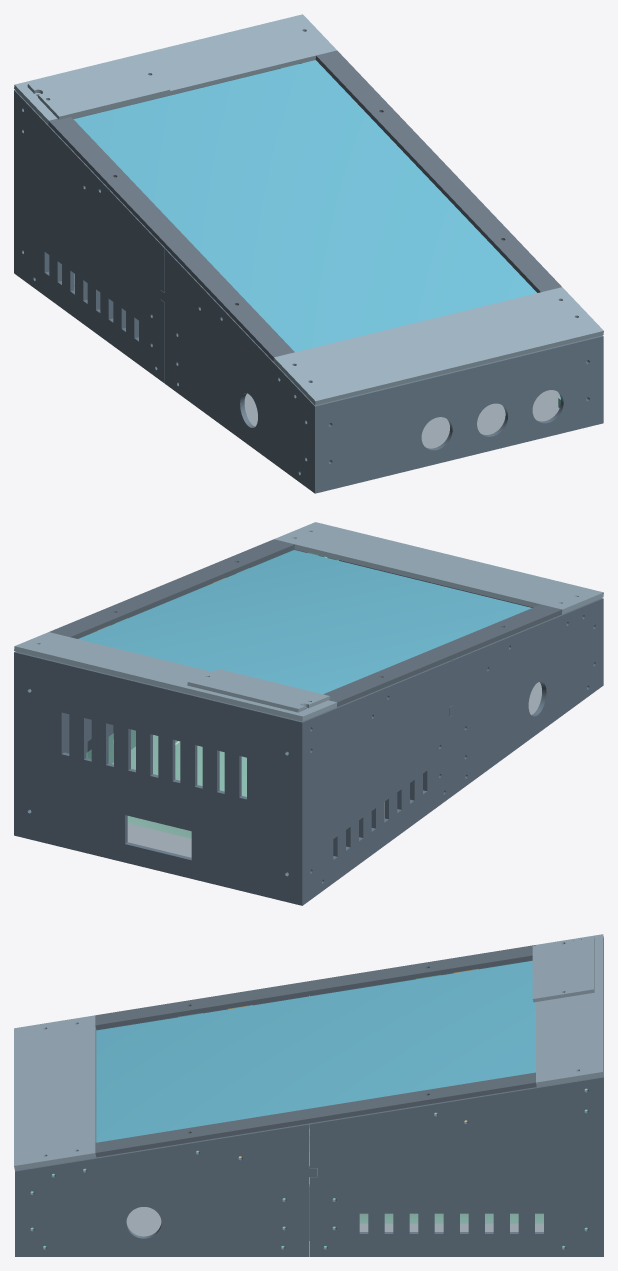
Rendered from cabinet-v1_3.glb.
3 views of the same model, one above another, from view 1: azimuth 30°, elevation 25°; view 2: azimuth 150°, elevation 25°; view 3: azimuth 270°, elevation 25° (orthographic). The views are drawn at different scales.
Visible parts, largest first — view 1: REFERENCE_Monitor, left_rear_wall, front_button_panel, left_front_wall, front_cable_lid, rear_control_deck, bezel_right_a1_a2, bezel_left_one_piece, control_hatch, bottom_front; view 2: rear_vent_panel, REFERENCE_Monitor, left_rear_wall, left_front_wall, front_cable_lid, rear_control_deck, bezel_right_a1_a2, bezel_left_one_piece, bottom_rear, control_hatch, REFERENCE_Dell_3050, right_rear_wall; view 3: REFERENCE_Monitor, right_rear_wall, right_front_wall, front_cable_lid, bezel_right_a1_a2, bezel_left_one_piece, rear_control_deck, control_hatch, bottom_rear, bottom_front, REFERENCE_Dell_3050.
Boxes of the visible parts, box(x1,y1,x2,y2) form: REFERENCE_Monitor: box(73, 60, 536, 352); left_rear_wall: box(14, 90, 164, 383); front_button_panel: box(319, 336, 598, 492); left_front_wall: box(160, 248, 319, 493); front_cable_lid: box(273, 287, 603, 405); rear_control_deck: box(14, 14, 336, 124); bezel_right_a1_a2: box(315, 50, 561, 292); bezel_left_one_piece: box(48, 117, 294, 360); control_hatch: box(27, 56, 170, 119); bottom_front: box(244, 390, 560, 448); rear_vent_panel: box(18, 652, 299, 904); REFERENCE_Monitor: box(78, 550, 531, 694); left_rear_wall: box(298, 660, 452, 905); left_front_wall: box(449, 598, 603, 795); front_cable_lid: box(274, 522, 603, 614); rear_control_deck: box(14, 632, 337, 721); bezel_right_a1_a2: box(49, 539, 294, 638); bezel_left_one_piece: box(323, 604, 562, 706); bottom_rear: box(112, 735, 384, 857); control_hatch: box(187, 669, 329, 712); REFERENCE_Dell_3050: box(86, 729, 246, 838); right_rear_wall: box(14, 601, 168, 836); REFERENCE_Monitor: box(96, 960, 535, 1142); right_rear_wall: box(309, 1076, 603, 1256); right_front_wall: box(15, 1123, 316, 1256); front_cable_lid: box(14, 1015, 96, 1170); bezel_right_a1_a2: box(95, 1072, 536, 1157); bezel_left_one_piece: box(95, 945, 535, 1029); rear_control_deck: box(536, 934, 603, 1086); control_hatch: box(532, 936, 594, 1002); bottom_rear: box(317, 1168, 543, 1231); bottom_front: box(126, 1207, 161, 1236); REFERENCE_Dell_3050: box(317, 1168, 543, 1223).
Size of the model in its own units: 0.26 by 0.1646 by 0.4707.
